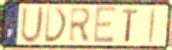D: (43, 5, 69, 44)
E: (92, 5, 118, 46)
I: (148, 8, 158, 45)
R: (68, 6, 93, 44)
T: (121, 8, 139, 44)
U: (19, 5, 46, 45)
